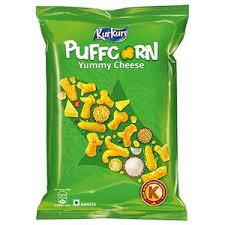kurkure: (89, 25, 132, 43)
plastic: (36, 6, 187, 221)
wrapper: (37, 6, 187, 221)
